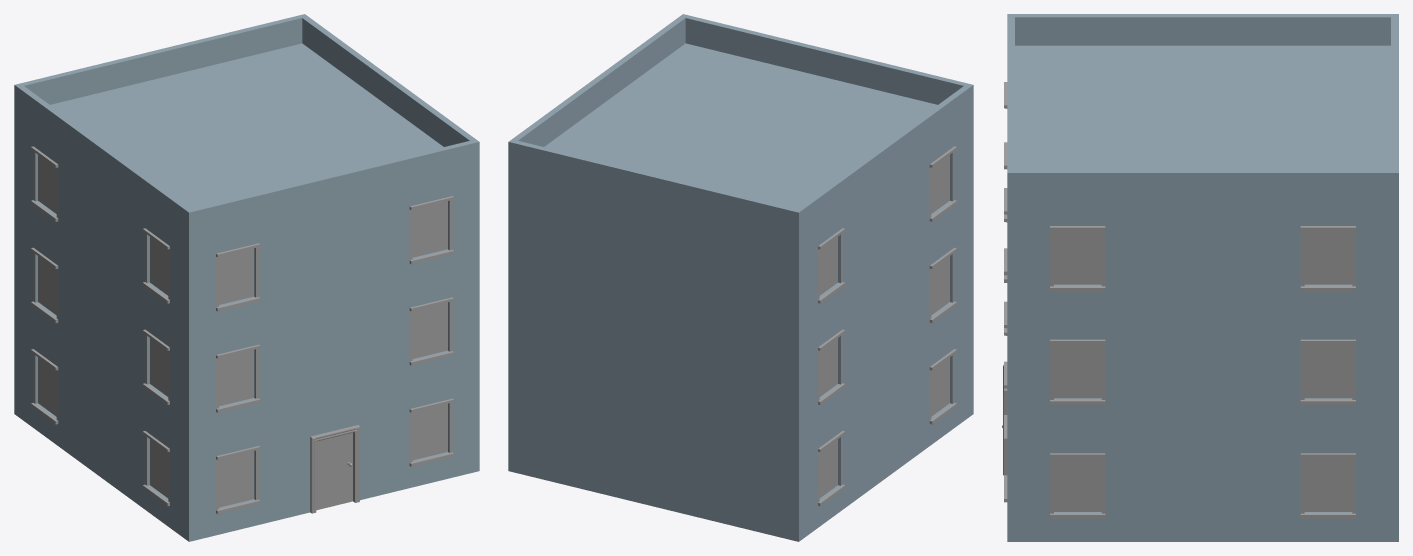
Rendered from SM_House_Var_G.fbx.
3 views of the same model, side by side, from view 1: azimuth 30°, elevation 25°; view 2: azimuth 150°, elevation 25°; view 3: azimuth 270°, elevation 25° (orthographic). The views are drawn at different scales.
Visible parts, largest first — view 1: SM__House_Var_G; view 2: SM__House_Var_G; view 3: SM__House_Var_G.
Boxes of the visible parts, x1,y1,x2,y2 form: SM__House_Var_G: (14,14,479,541); SM__House_Var_G: (508,14,973,541); SM__House_Var_G: (1002,14,1398,541).
Size of the model in its own units: 6.1 by 6.5 by 6.33.
